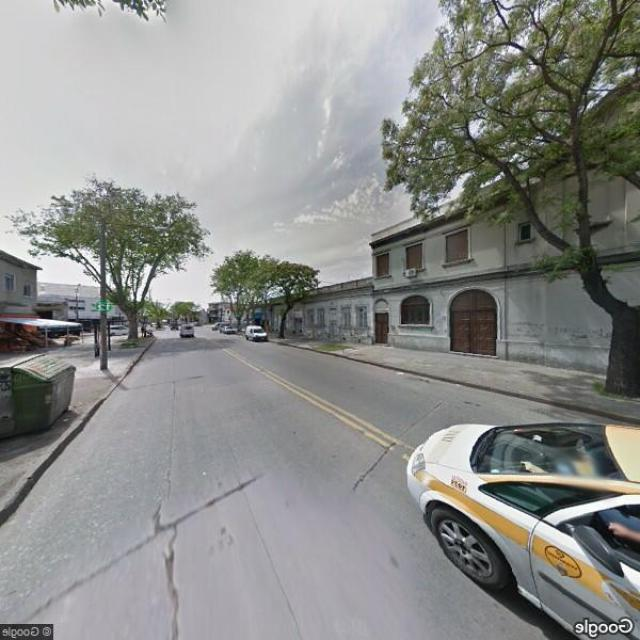garbage container: (0, 346, 81, 449)
